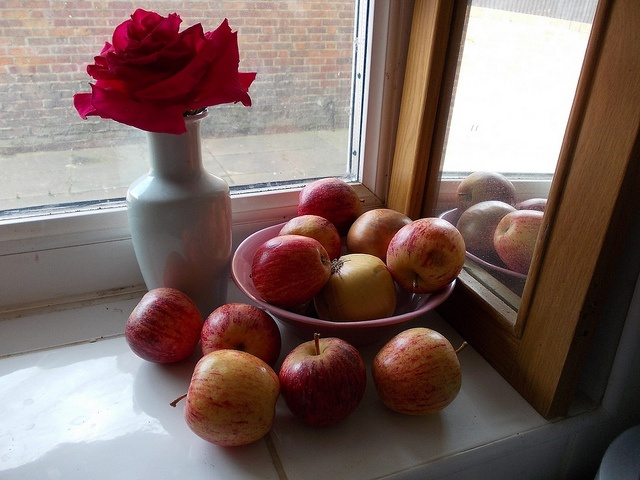bowl: (229, 178, 640, 480)
